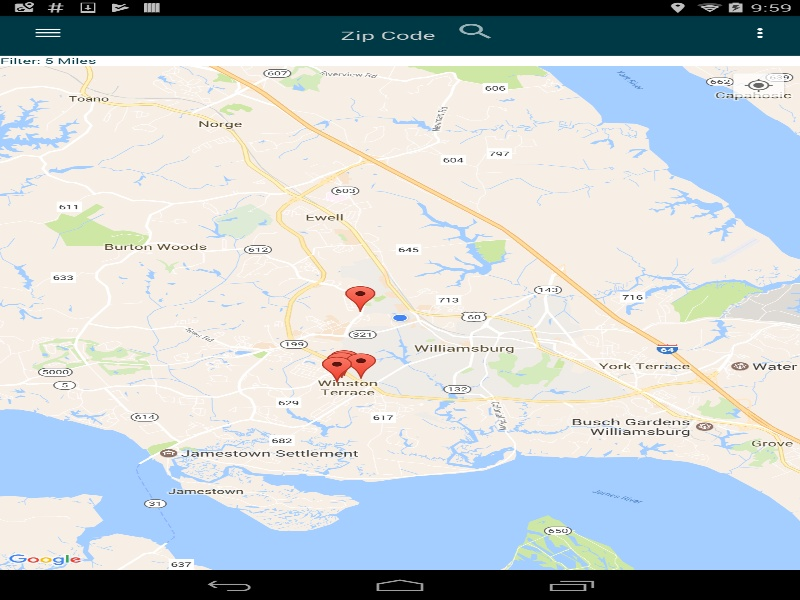Button: (10, 13, 85, 53), (454, 21, 496, 41)
Input: (335, 21, 440, 49)
